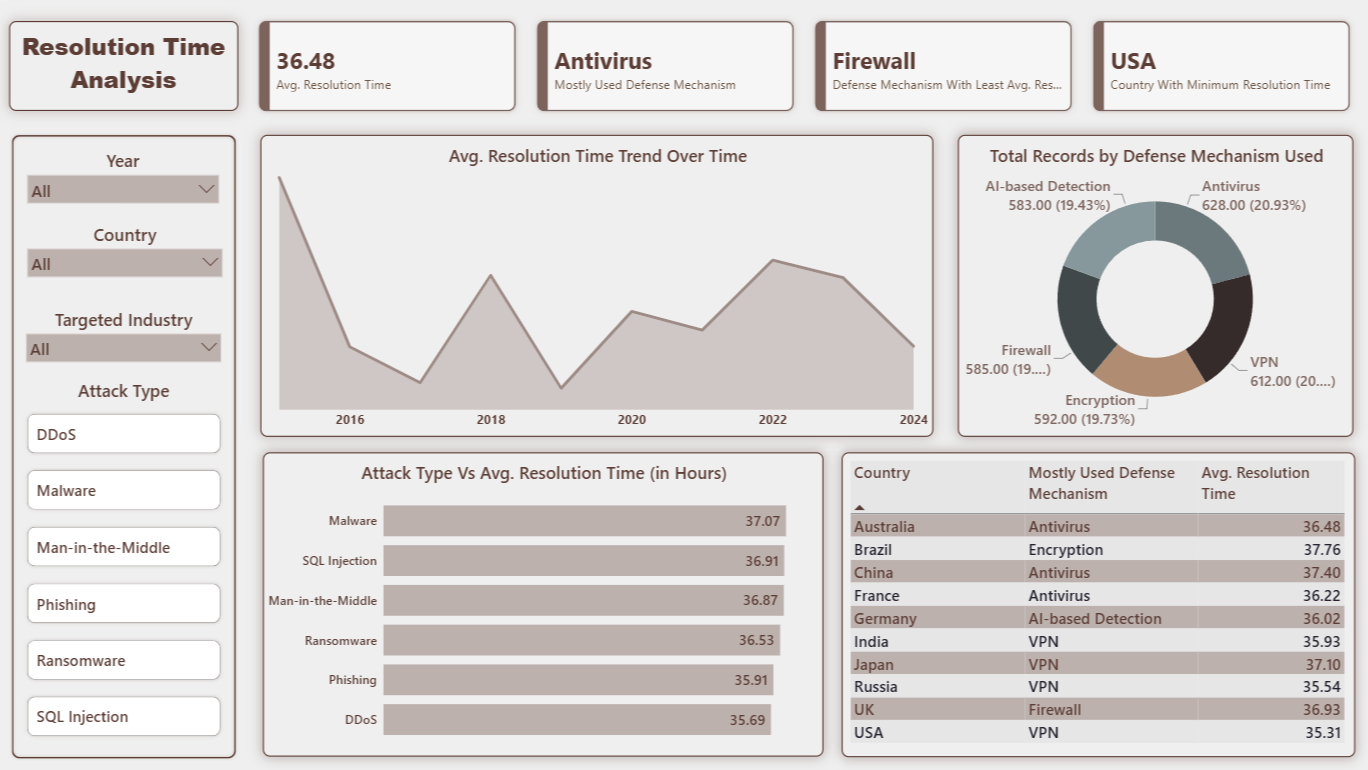

The dashboard page shown, as its layout file describes it:
{"tool":"powerbi","page":{"name":"Resolution  Analysis","canvas":[1920,1080],"ordinal":3},"visuals":[{"type":"textbox","box":[18.1,27.1,320.3,126],"z":0},{"type":"shape","box":[18.1,182.8,320.3,877.7],"z":0,"group":"g1"},{"type":"lineChart","title":"Avg. Resolution Time Trend Over Time","fields":{"Category":["Dataset.Year"],"Y":["All Measures.Avg. Resolution Time"]},"box":[367.4,186.4,939.2,421.7],"z":1000},{"type":"slicer","title":"Year","fields":{"Values":["Dataset.Year"]},"box":[23.5,195.5,307.6,126.7],"z":1000,"group":"g1"},{"type":"cardVisual","fields":{"Data":["All Measures.Avg. Resolution Time","All Measures.Mostly Used Defense Mechanism","All Measures.Defense Mechanism With Least Avg. Resolution Time","All Measures.Country With Minimum Resolution Time"]},"box":[338,0,1580.2,182.8],"z":2000},{"type":"slicer","title":"Country","fields":{"Values":["Dataset.Country"]},"box":[23.5,298.6,313.1,124.9],"z":2000,"group":"g1"},{"type":"donutChart","fields":{"Category":["Dataset.Defense Mechanism Used"],"Y":["All Measures.Total Records"]},"box":[1341,186.4,551.9,421.7],"z":3000},{"type":"advancedSlicerVisual","title":"Attack Type","fields":{"Values":["Dataset.Attack Type"]},"box":[21.7,526.6,313.1,521.2],"z":3000,"group":"g1"},{"type":"slicer","title":"Targeted Industry","fields":{"Values":["Dataset.Target Industry"]},"box":[21.7,416.2,313.1,123.1],"z":4000,"group":"g1"},{"type":"barChart","title":"Attack Type Vs Avg. Resolution Time (in Hours)","fields":{"Category":["Dataset.Attack Type"],"Y":["All Measures.Avg. Resolution Time"]},"box":[371.7,630,782,425],"z":4000},{"type":"tableEx","fields":{"Values":["Dataset.Country","All Measures.Mostly Used Defense Mechanism","All Measures.Avg. Resolution Time"]},"box":[1179,630,717,425.8],"z":5000},{"type":"group","id":"g1","title":"Group 1","box":[18.1,182.8,320.3,877.7],"z":6000}]}

Visuals, with their boxes in screenshot pixels (x1, y1, x2, y2), scaled from the page's 1920x1080 canvas onto the 1368x770 screenshot:
textbox: {"x1": 13, "y1": 19, "x2": 241, "y2": 109}
shape: {"x1": 13, "y1": 130, "x2": 241, "y2": 756}
"Avg. Resolution Time Trend Over Time" lineChart: {"x1": 262, "y1": 133, "x2": 931, "y2": 434}
"Year" slicer: {"x1": 17, "y1": 139, "x2": 236, "y2": 230}
cardVisual - All Measures.Avg. Resolution Time x All Measures.Mostly Used Defense Mechanism: {"x1": 241, "y1": 0, "x2": 1367, "y2": 130}
"Country" slicer: {"x1": 17, "y1": 213, "x2": 240, "y2": 302}
donutChart - Dataset.Defense Mechanism Used x All Measures.Total Records: {"x1": 955, "y1": 133, "x2": 1349, "y2": 434}
"Attack Type" advancedSlicerVisual: {"x1": 15, "y1": 375, "x2": 239, "y2": 747}
"Targeted Industry" slicer: {"x1": 15, "y1": 297, "x2": 239, "y2": 385}
"Attack Type Vs Avg. Resolution Time (in Hours)" barChart: {"x1": 265, "y1": 449, "x2": 822, "y2": 752}
tableEx - Dataset.Country x All Measures.Mostly Used Defense Mechanism: {"x1": 840, "y1": 449, "x2": 1351, "y2": 753}
"Group 1" group: {"x1": 13, "y1": 130, "x2": 241, "y2": 756}
